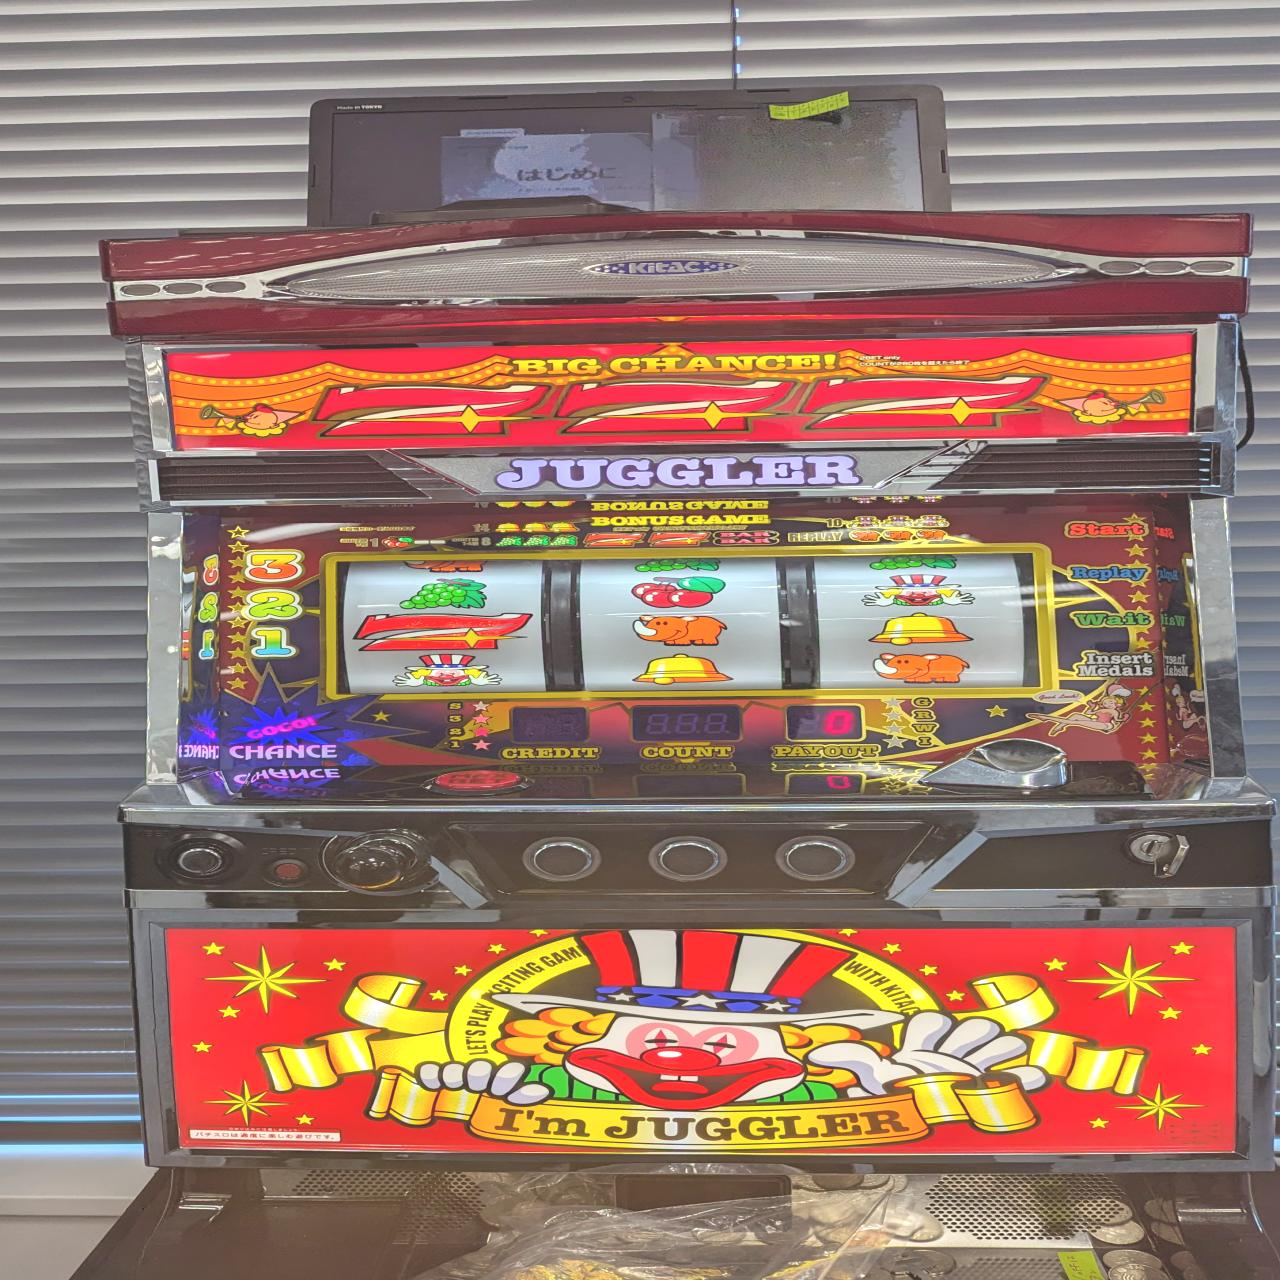Display: (315, 549, 1062, 702)
